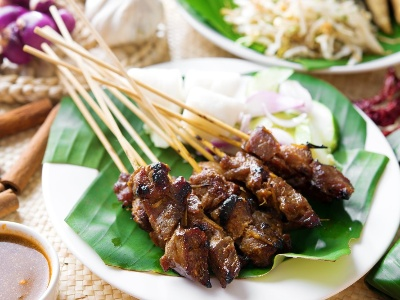sate: (44, 23, 344, 281)
